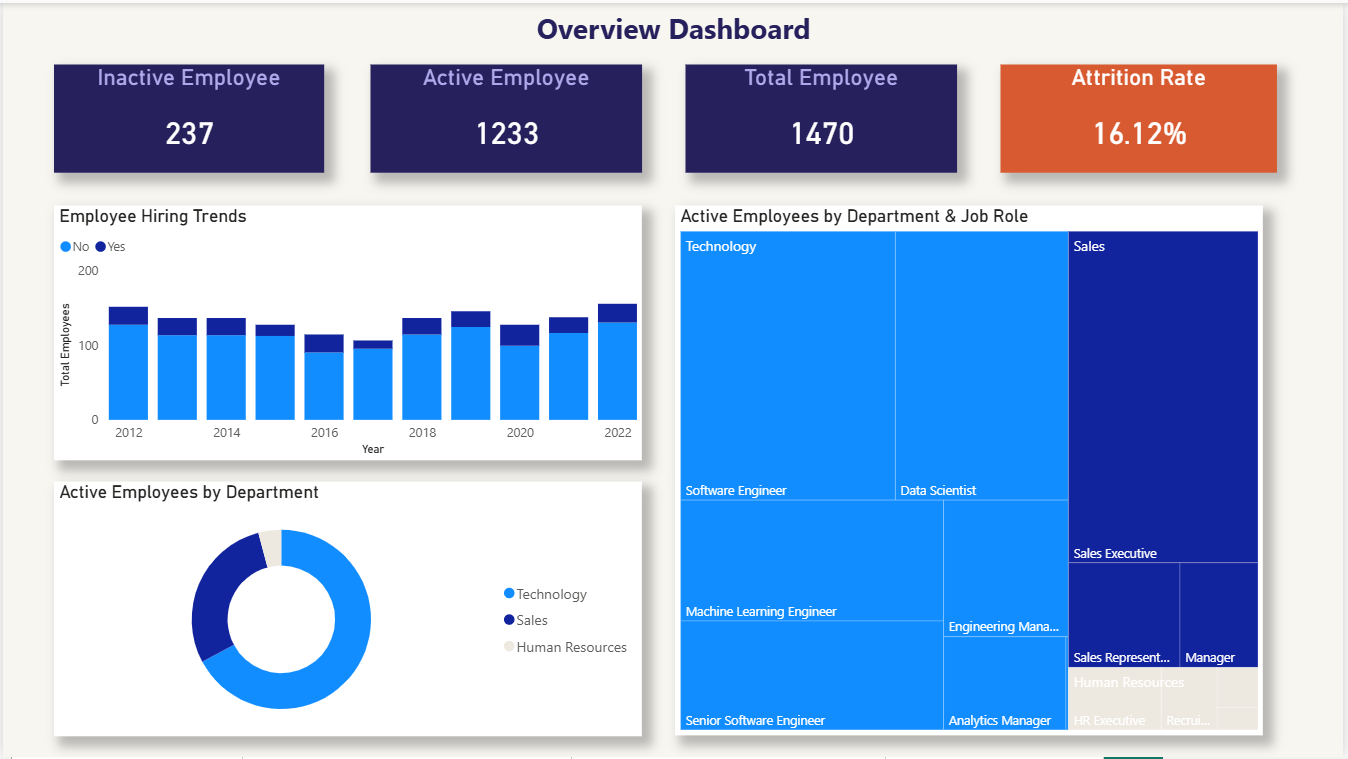

The page's visual inventory and layout, read from the dashboard file:
{"tool":"powerbi","page":{"name":"Overview Dashboard","canvas":[1280,720],"ordinal":0},"visuals":[{"type":"textbox","box":[0,0,1280.8,56.7],"z":0},{"type":"card","title":"Inactive Employee","fields":{"Values":["_Metrics.Inactive Employees"]},"box":[49.3,58.9,257.7,103.4],"z":1000},{"type":"card","title":"Active Employee","fields":{"Values":["_Metrics.Active Employees"]},"box":[351.5,58.9,259.3,103.4],"z":2000},{"type":"card","title":"Total Employee","fields":{"Values":["_Metrics.Total Employees"]},"box":[652.2,58.9,259.3,103.4],"z":3000},{"type":"card","title":"Attrition Rate","fields":{"Values":["_Metrics.Attrition Rate"]},"box":[952.8,58.9,264,103.4],"z":4000},{"type":"columnChart","title":"Employee Hiring Trends","fields":{"Category":["Dim_Date.Date.Variation.Date Hierarchy.Year"],"Y":["_Metrics.Total Employees"],"Series":["Employee.Attrition"]},"box":[49.3,194.1,561.5,243.4],"z":5000},{"type":"donutChart","title":"Active Employees by Department","fields":{"Y":["_Metrics.Active Employees"],"Category":["Employee.Department"]},"box":[49.3,456.5,561.5,243.4],"z":6000},{"type":"treemap","title":"Active Employees by Department & Job Role","fields":{"Values":["_Metrics.Active Employees"],"Group":["Employee.Department"],"Details":["Employee.JobRole"]},"box":[641,194.1,561.5,505.8],"z":7000}]}

Visuals, with their boxes in screenshot pixels (x1, y1, x2, y2), scaled from the page's 1280x720 canvas onto the 1348x759 screenshot:
textbox: bbox(0, 0, 1347, 60)
"Inactive Employee" card: bbox(52, 62, 323, 171)
"Active Employee" card: bbox(370, 62, 643, 171)
"Total Employee" card: bbox(687, 62, 960, 171)
"Attrition Rate" card: bbox(1003, 62, 1281, 171)
"Employee Hiring Trends" columnChart: bbox(52, 205, 643, 461)
"Active Employees by Department" donutChart: bbox(52, 481, 643, 738)
"Active Employees by Department & Job Role" treemap: bbox(675, 205, 1266, 738)
